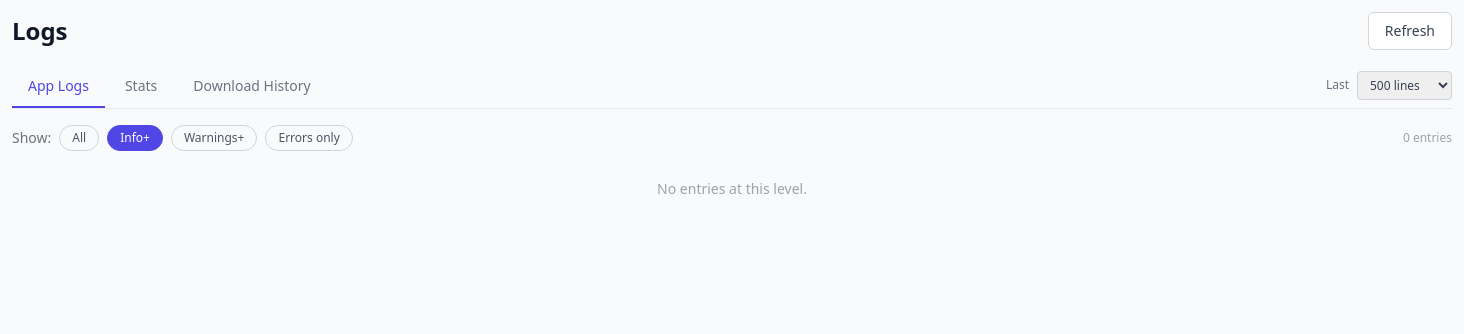
Test case: LogsPage › offers a line count only on the raw view, and a range only on the others
Expected: the dropdown is shown, [1357,70,1452,100]
Expected: the button "30d" is not shown
Step 1. Click the button "Stats" → (141, 87), box [109,66,173,108]
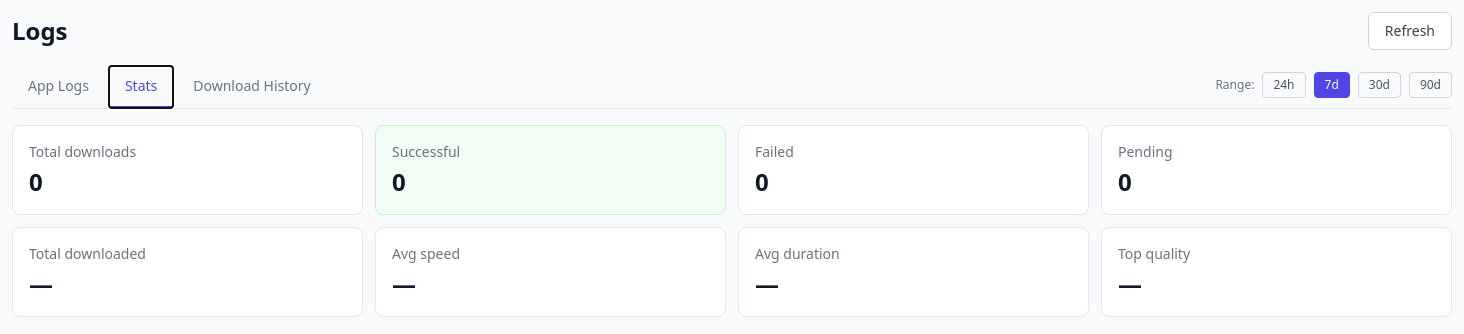
Now the button "30d" is shown, box [1358,72,1401,98]
Now the dropdown is gone
